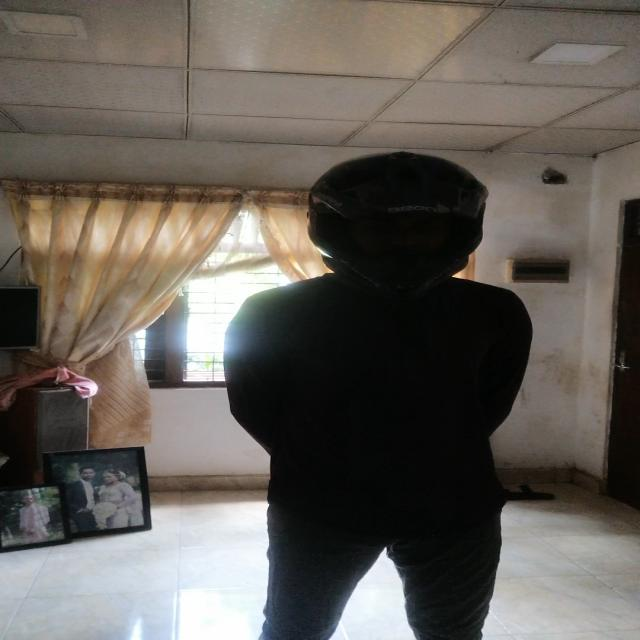Helmet_Wearer: (292, 150, 501, 298)
Person: (234, 142, 532, 638)
